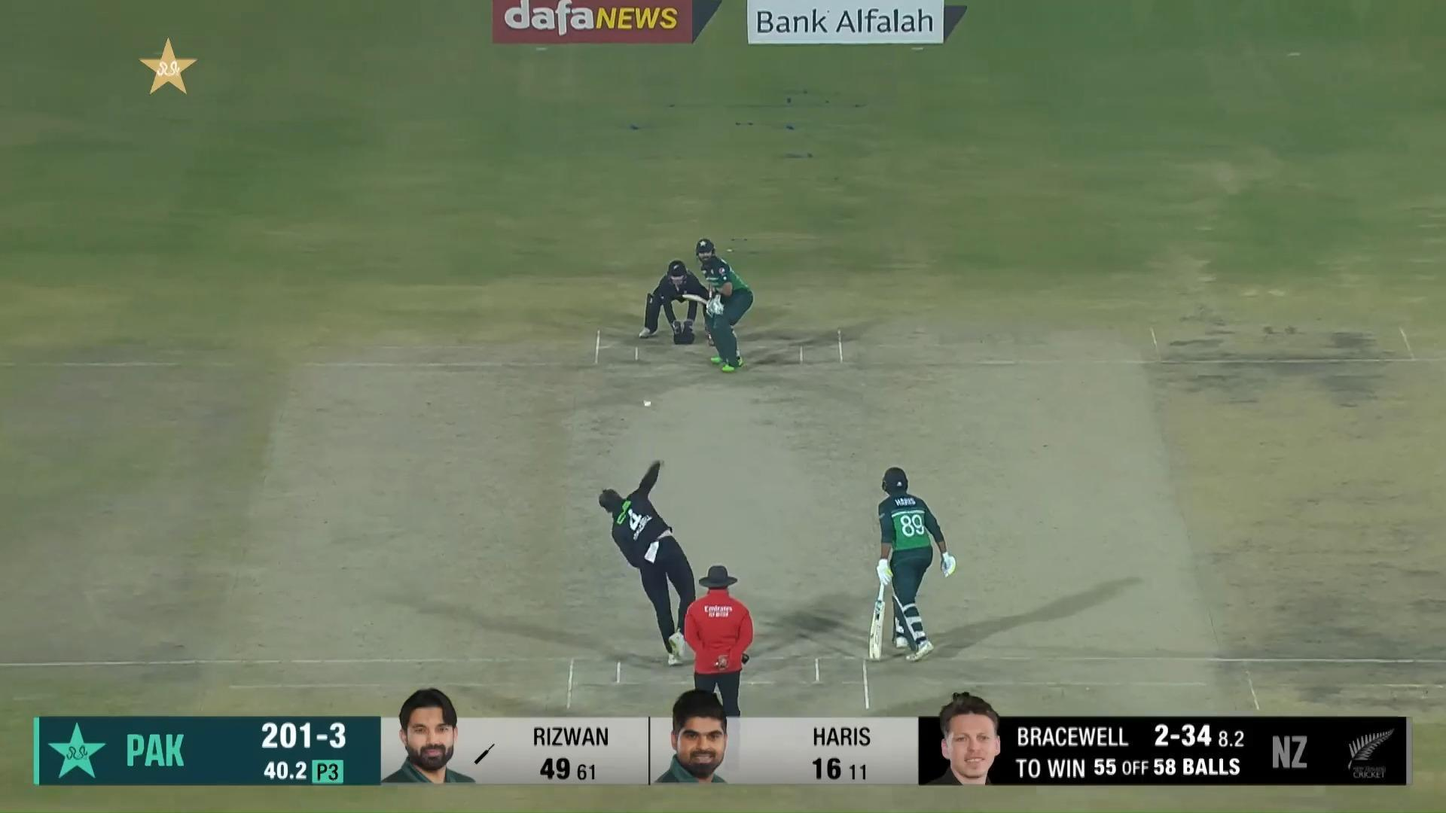BM 1: (682, 238, 755, 372)
BO: (598, 457, 699, 667)
